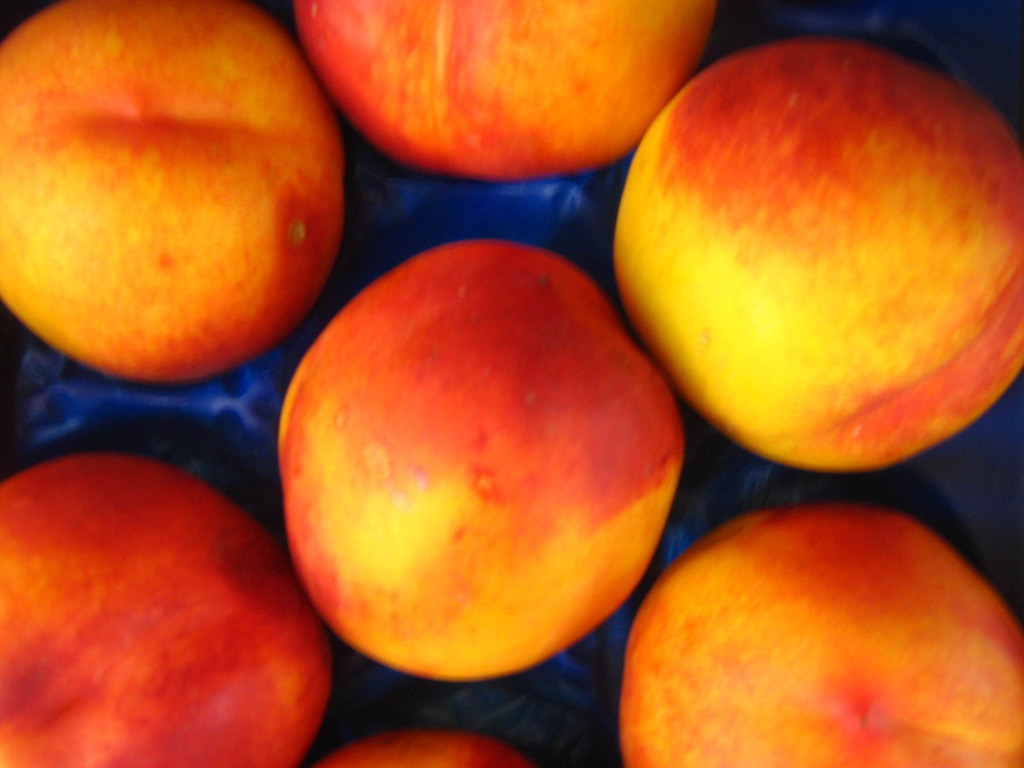Apple: (0, 0, 1022, 767), (611, 32, 1024, 489)
